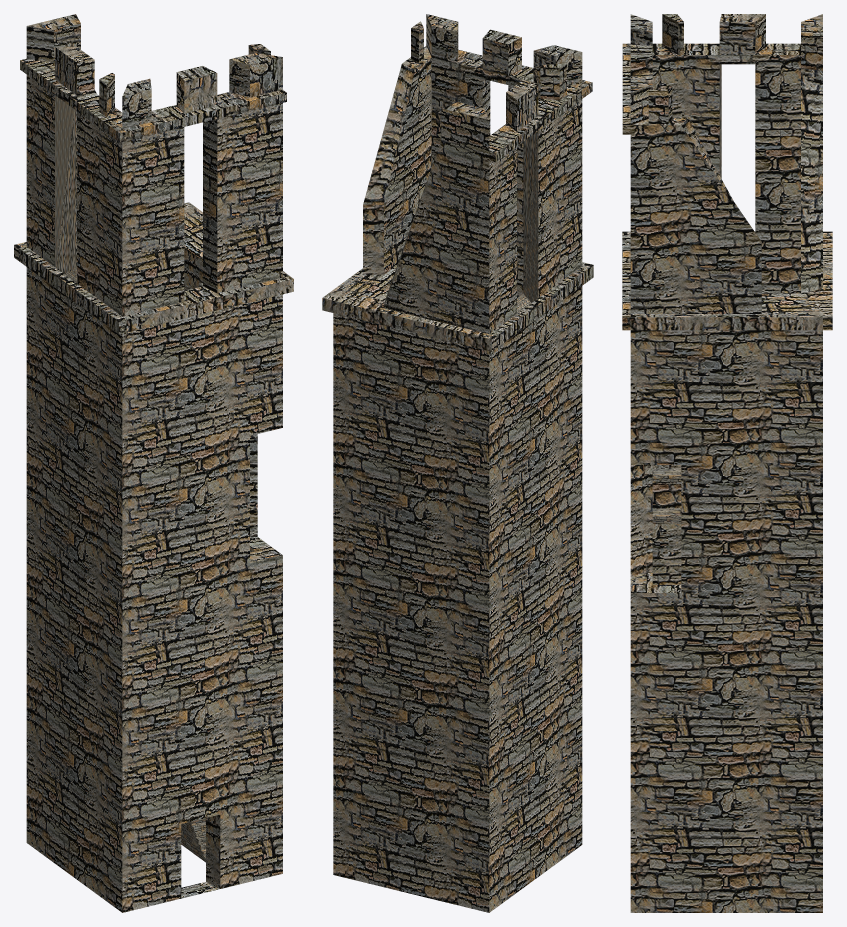
File: medieval_tower_ruins.glb
The picture shows the model from 3 angles, left to right: view 1: azimuth 30°, elevation 25°; view 2: azimuth 150°, elevation 25°; view 3: azimuth 270°, elevation 25°; orthographic projection. The views are drawn at different scales.
Parts seen in each view (by area): view 1: tower-col, stairs.001-col.001; view 2: tower-col; view 3: tower-col, stairs02-col.
Boxes of the visible parts, x1,y1,x2,y2 form: tower-col: (14, 14, 293, 912); stairs.001-col.001: (181, 818, 205, 862); tower-col: (322, 14, 593, 912); tower-col: (622, 14, 832, 912); stairs02-col: (652, 468, 681, 523).
Size of the model in its own units: 17.57 by 78.36 by 18.23.
Materials: 3 (2 with a texture image).
